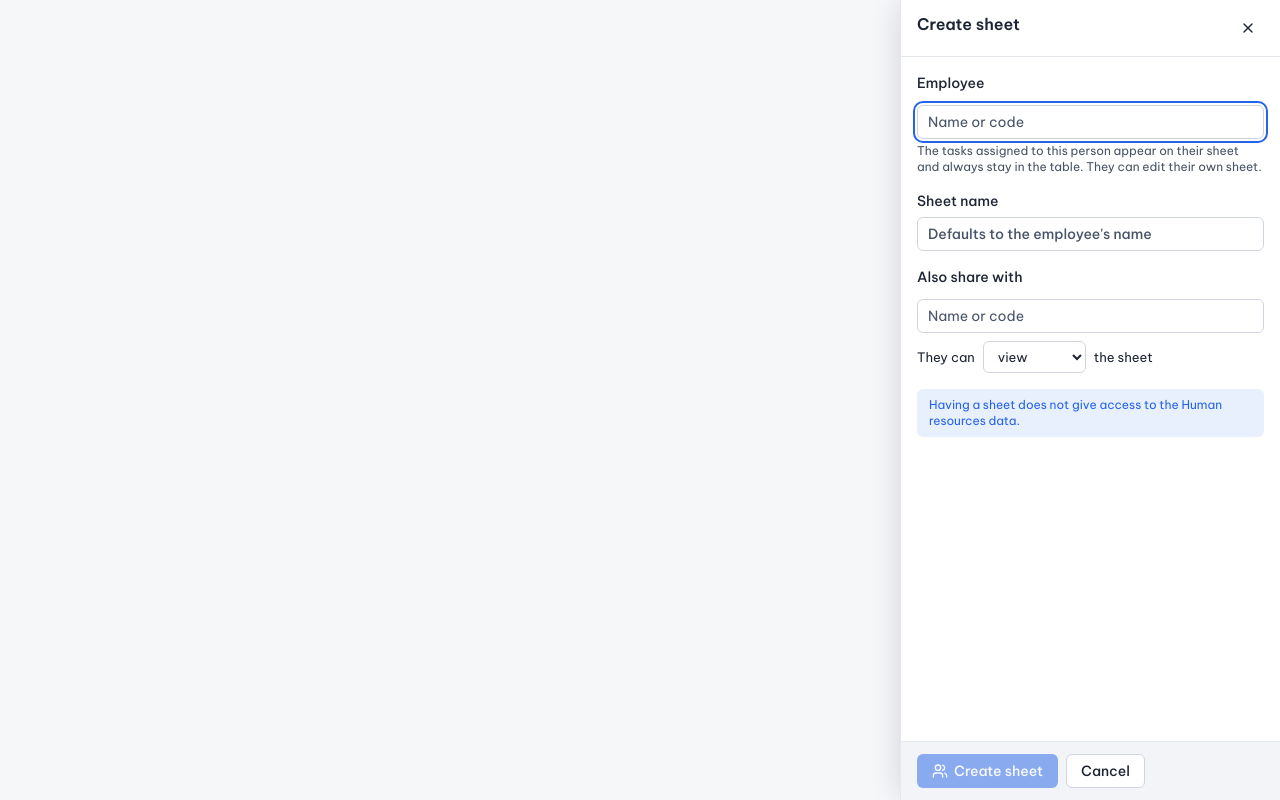
CreateSheetDrawer › shows why the server refused and stays open
Step 1. Type "a" into the search field with placeholder "Name or code" below "Employee" → (1090, 122), box [917,105,1264,139]
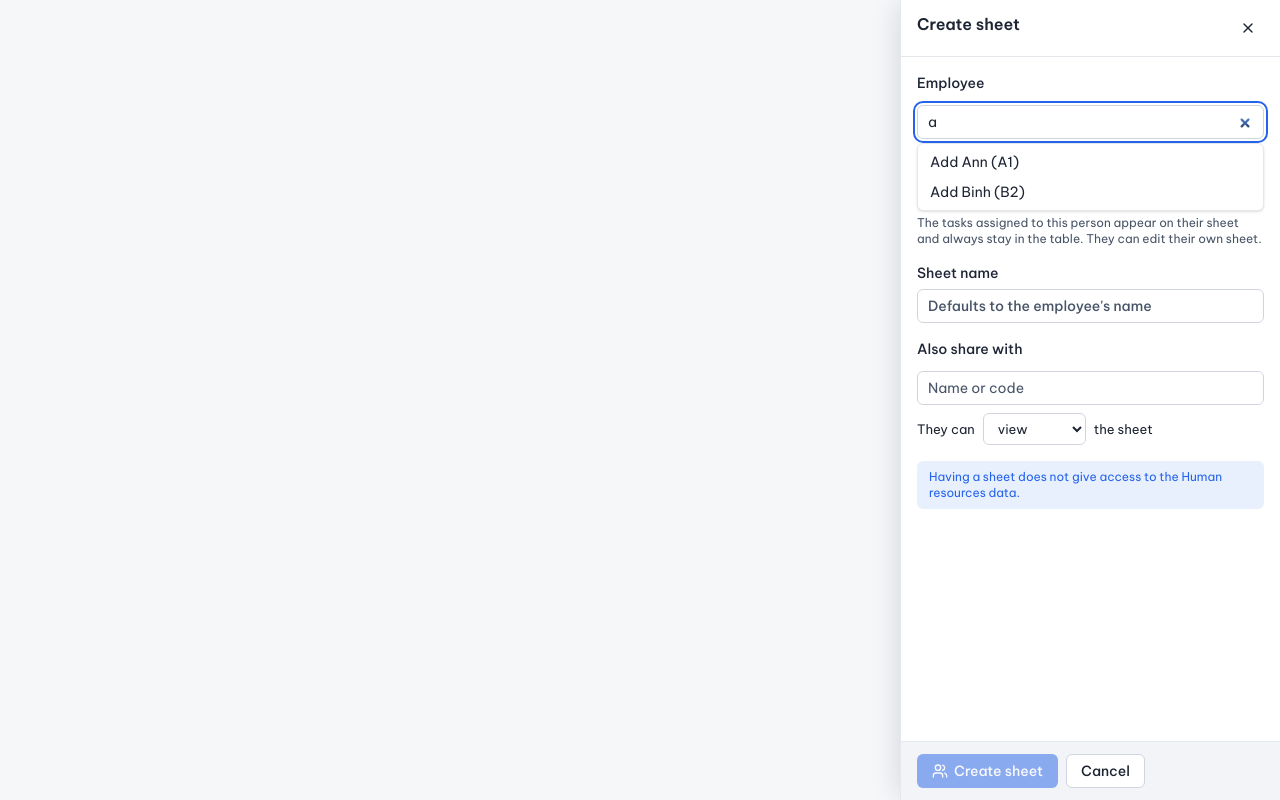
Step 2. Click the button "Add Ann (A1)" → (946, 162), box [922,148,1259,176]
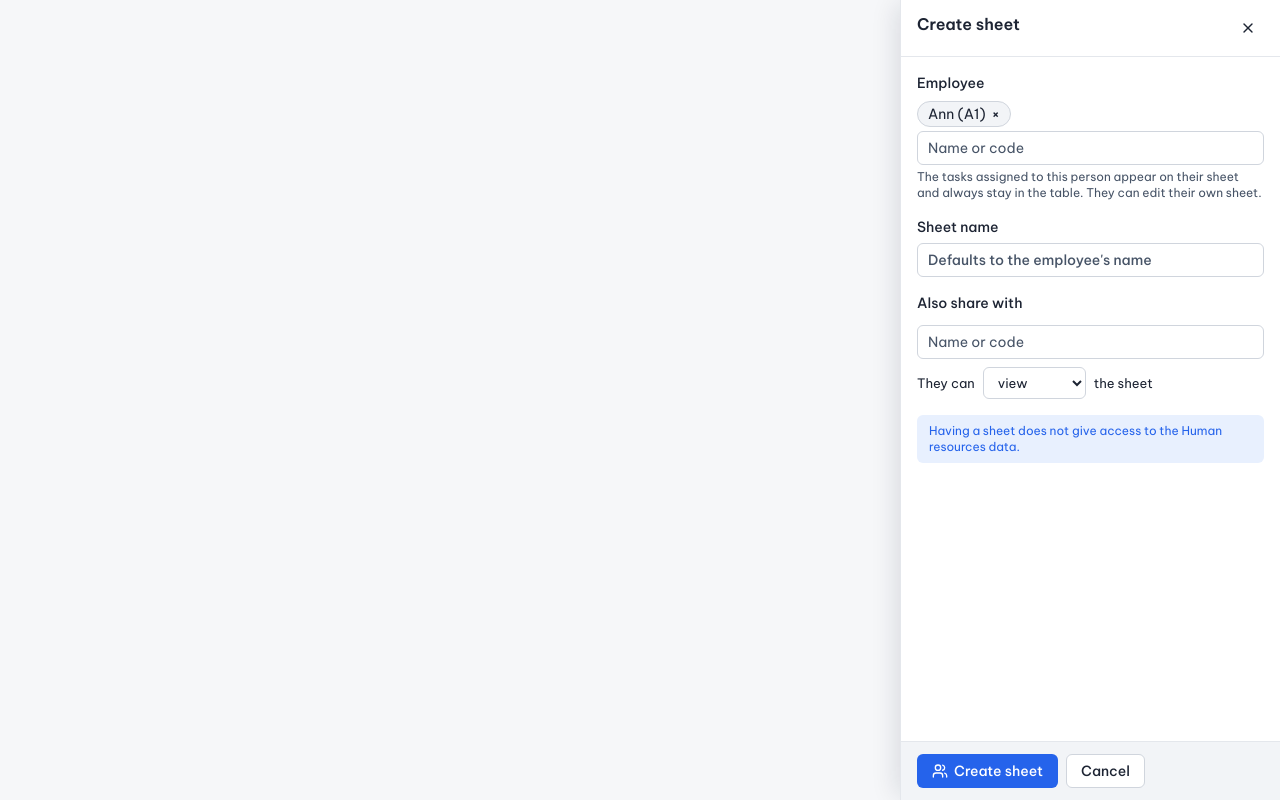
Step 3. Click the button "Create sheet" → (988, 771), box [917,754,1058,788]
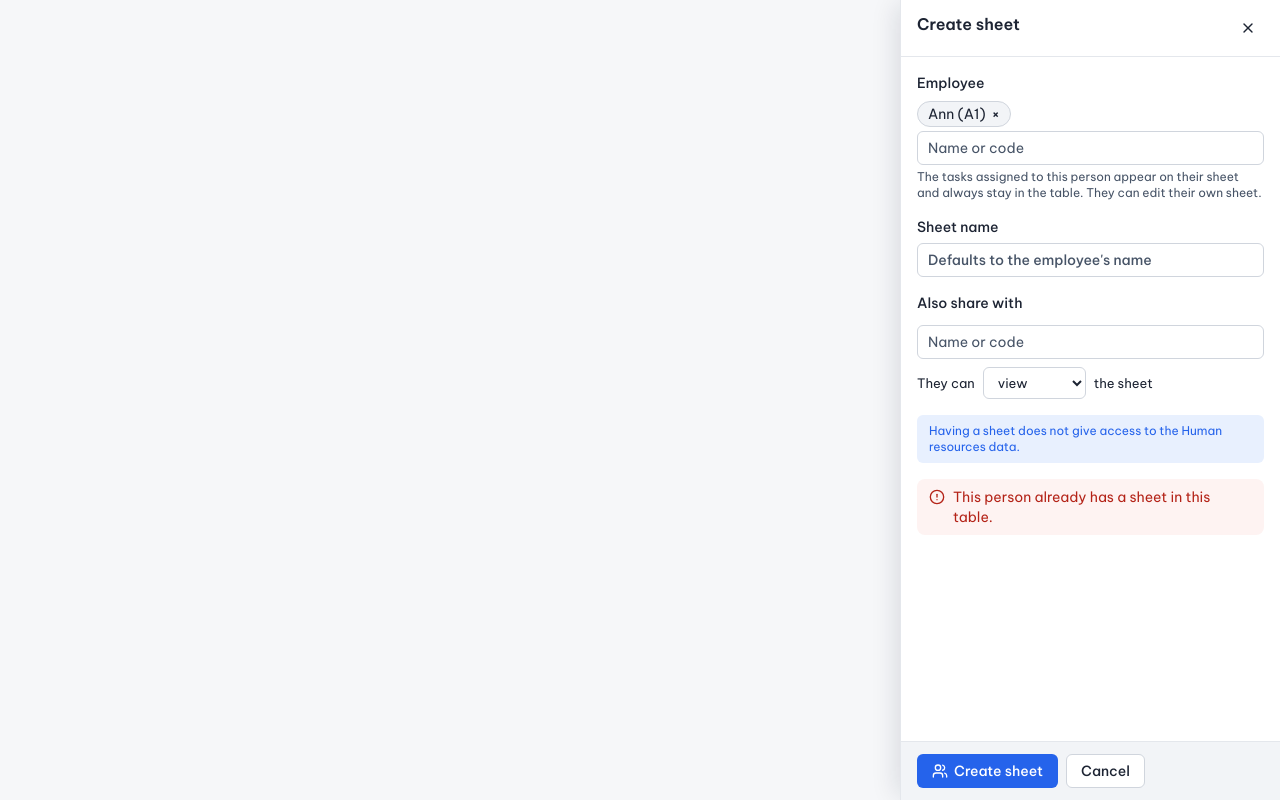
Expected: the message shows "already has a sheet", [953,488,1210,526]
